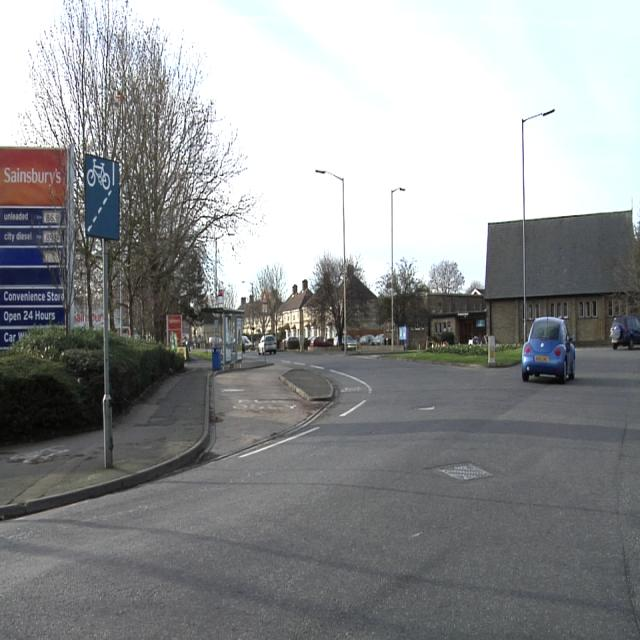Building: (525, 211, 638, 343), (486, 220, 523, 345), (430, 293, 487, 343)
Car: (521, 318, 575, 383), (611, 316, 639, 347), (259, 334, 277, 354), (242, 334, 251, 351), (374, 335, 384, 344)
Road: (0, 354, 637, 620)
Tree: (17, 3, 257, 338), (388, 257, 462, 323), (312, 249, 345, 336), (248, 262, 286, 335), (347, 248, 373, 314)
